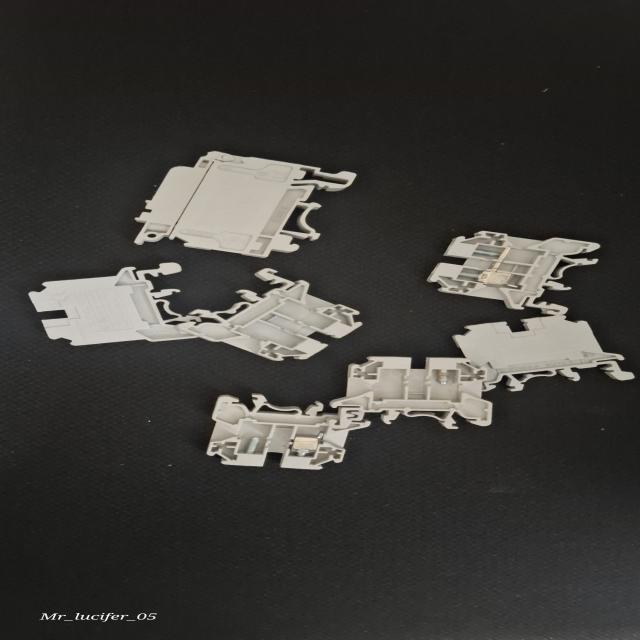Inverted: (19, 260, 200, 346), (451, 315, 640, 393)
Reject: (184, 266, 361, 362), (429, 227, 602, 313), (210, 393, 368, 468), (340, 356, 496, 430)
